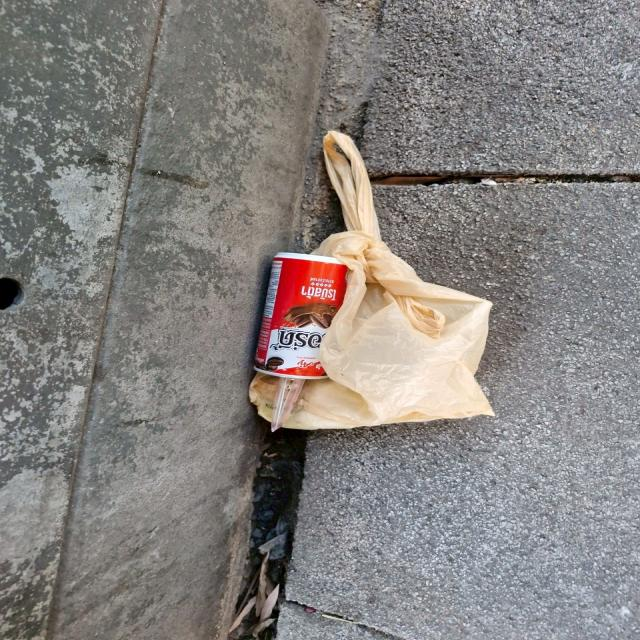can: (260, 244, 349, 384)
